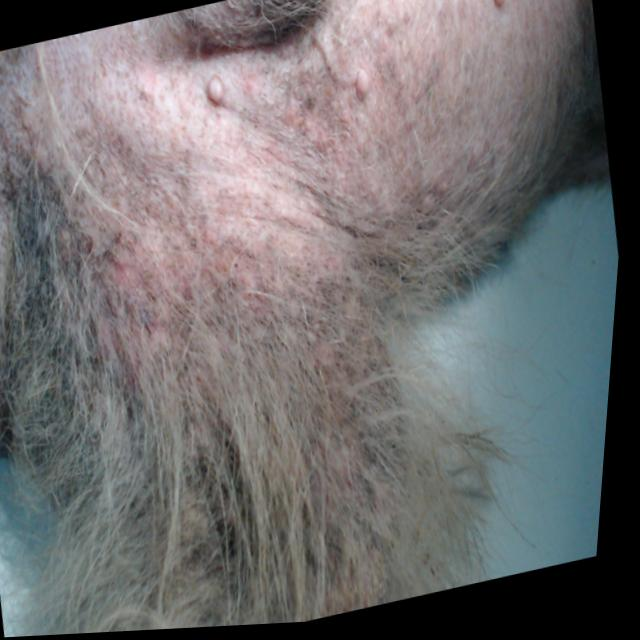demodicosis: (302, 341, 418, 532)
